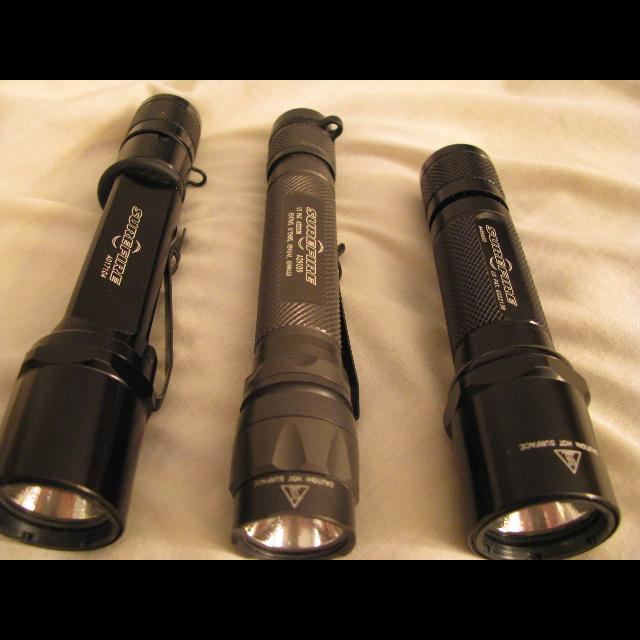Flashlight: (221, 100, 371, 560)
